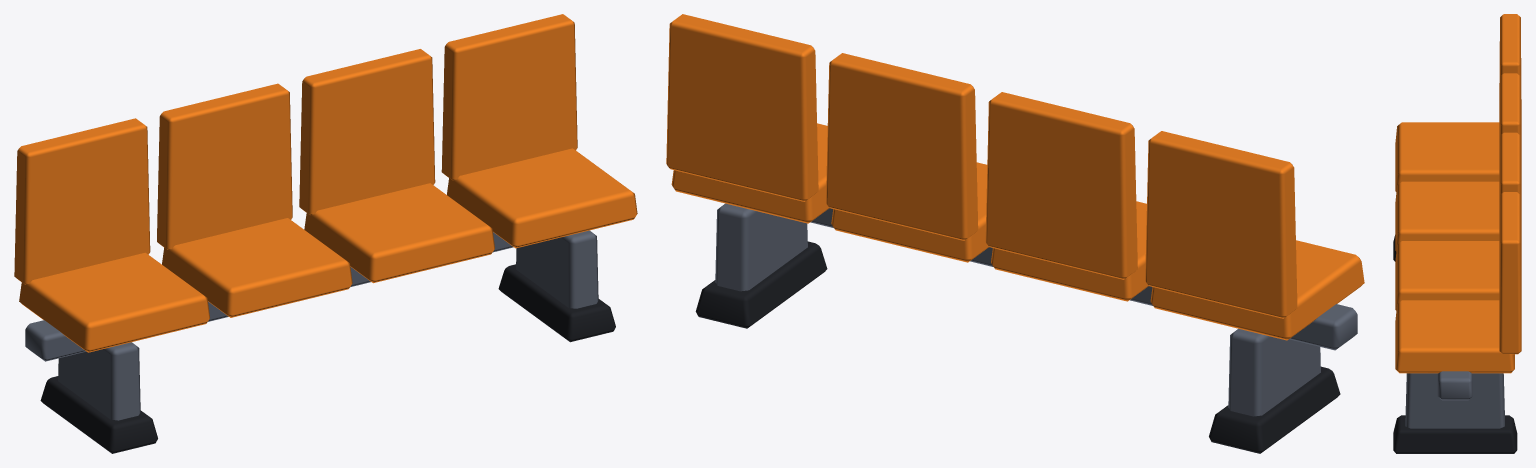
File: bench.glb
3 views of the same model, side by side, from view 1: azimuth 30°, elevation 25°; view 2: azimuth 150°, elevation 25°; view 3: azimuth 270°, elevation 25° (orthographic). The views are drawn at different scales.
Parts seen in each view (by area): view 1: bench; view 2: bench; view 3: bench.
Part boxes in pixels (x1=…): bench: x1=14, y1=14, x2=637, y2=453; bench: x1=666, y1=14, x2=1364, y2=453; bench: x1=1393, y1=14, x2=1521, y2=453.
Bounding box in the file's own units: 2.32 × 0.98 × 0.512.
